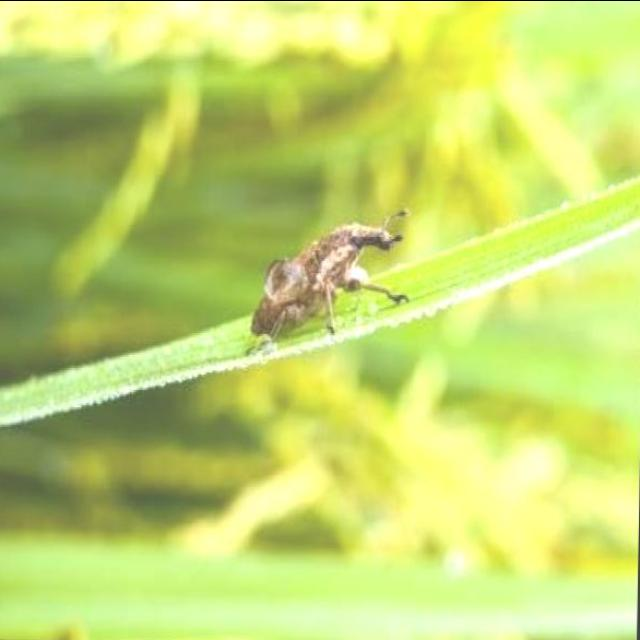ricebug: (252, 218, 404, 337)
